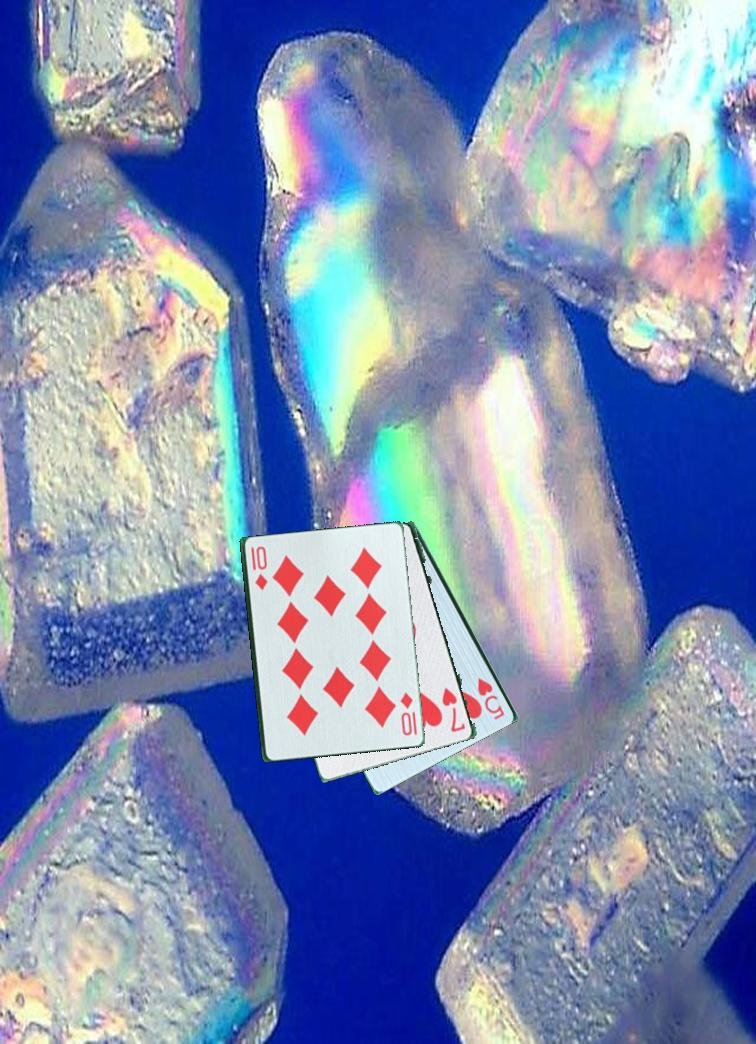5h: (474, 674, 508, 723)
7h: (439, 684, 469, 737)
td: (248, 544, 270, 598), (397, 689, 416, 739)
